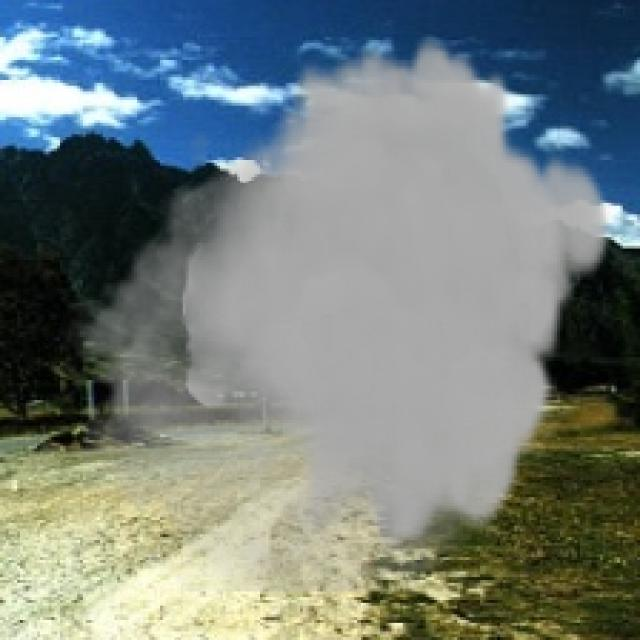smoke: (63, 34, 614, 592)
